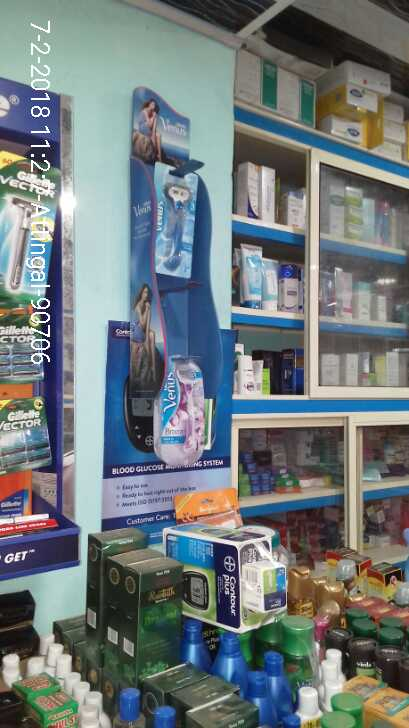beauty: (1, 156, 47, 291), (151, 160, 198, 283), (166, 364, 214, 459), (1, 398, 54, 473), (1, 299, 40, 387)
